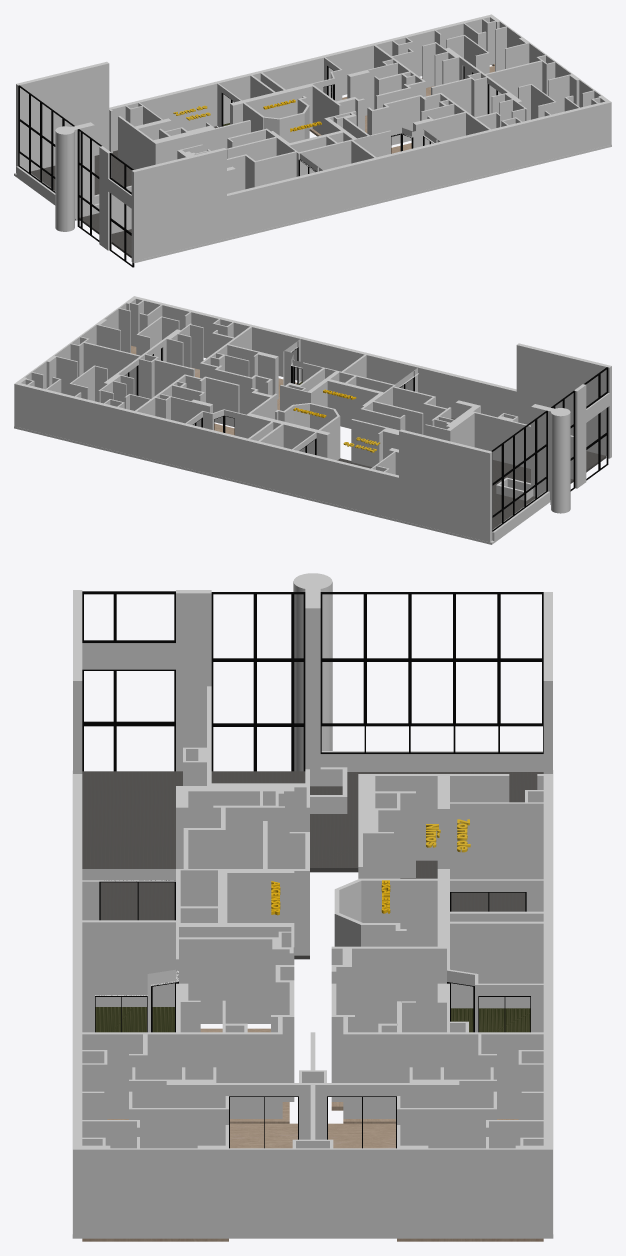
Rendered from planta-1.glb.
3 renders of one model, top to bottom at view 1: azimuth 30°, elevation 25°; view 2: azimuth 150°, elevation 25°; view 3: azimuth 270°, elevation 25°, orthographic. The views are drawn at different scales.
Visible parts, largest first — view 1: walls-parent; view 2: walls-parent; view 3: walls-parent, tipo-7, tipo-6.
Part boxes in pixels (x1,y1,x2,y2): walls-parent: [14, 14, 611, 267]; walls-parent: [14, 296, 611, 544]; walls-parent: [72, 573, 553, 1238]; tipo-7: [82, 1123, 297, 1241]; tipo-6: [328, 1123, 543, 1241].
Size of what is drawn, in the model's own units: 36.69 by 6.89 by 15.42.
Materials: 10 (6 with a texture image).
